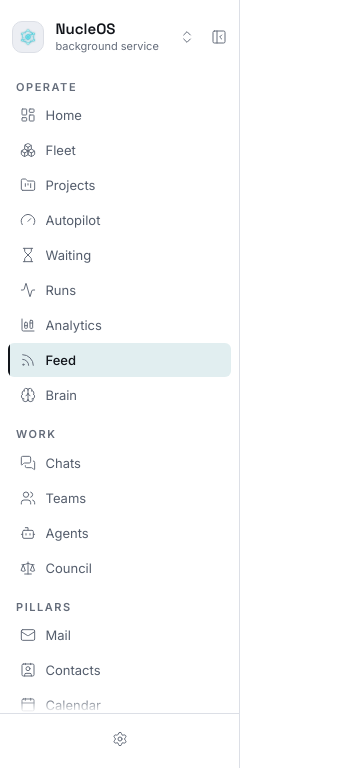
Test case: Sidebar › project switcher › says so quietly when nothing matches
The width and height of the screenshot is (344, 768).
Click the button with aria-label "switch project" at {"x": 106, "y": 37}, box 8,12 -> 203,61
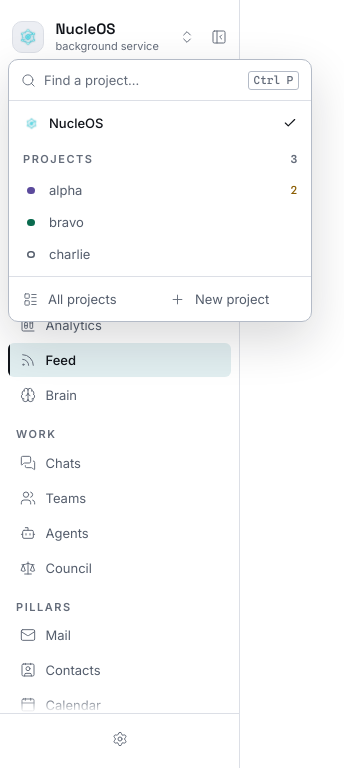
Type "zulu" into the dropdown labelled "Find a project" at {"x": 142, "y": 80}, box 44,70 -> 240,90
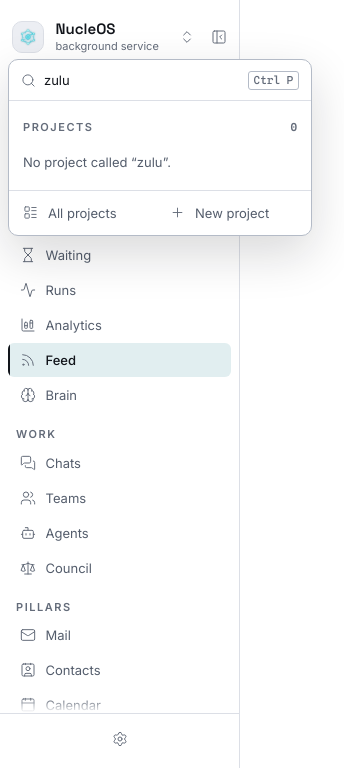
Result: no options are shown
Result: the text "No project called “zulu”." is shown at 23,154 -> 171,170
